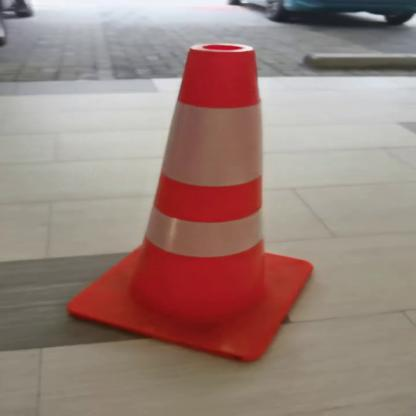cone: (62, 38, 320, 372)
